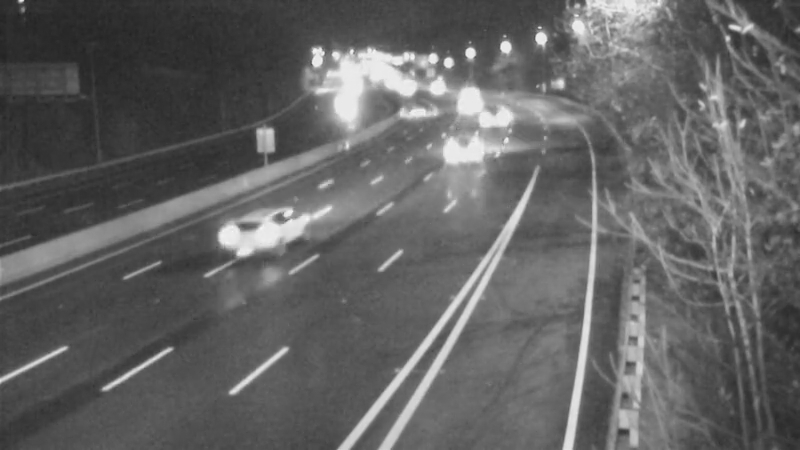vehicle: (212, 193, 292, 273), (413, 61, 463, 111), (444, 64, 494, 114), (440, 80, 490, 130), (387, 82, 437, 132), (463, 94, 513, 144), (442, 120, 492, 170), (322, 81, 372, 131)
